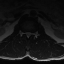CCS_normal: (27, 30, 29, 39)
LFS_stenosis: (31, 30, 33, 36)
LLS_stenosis: (30, 30, 32, 37)
RFS_stenosis: (23, 30, 25, 36)
RLS_stenosis: (25, 30, 27, 37)
